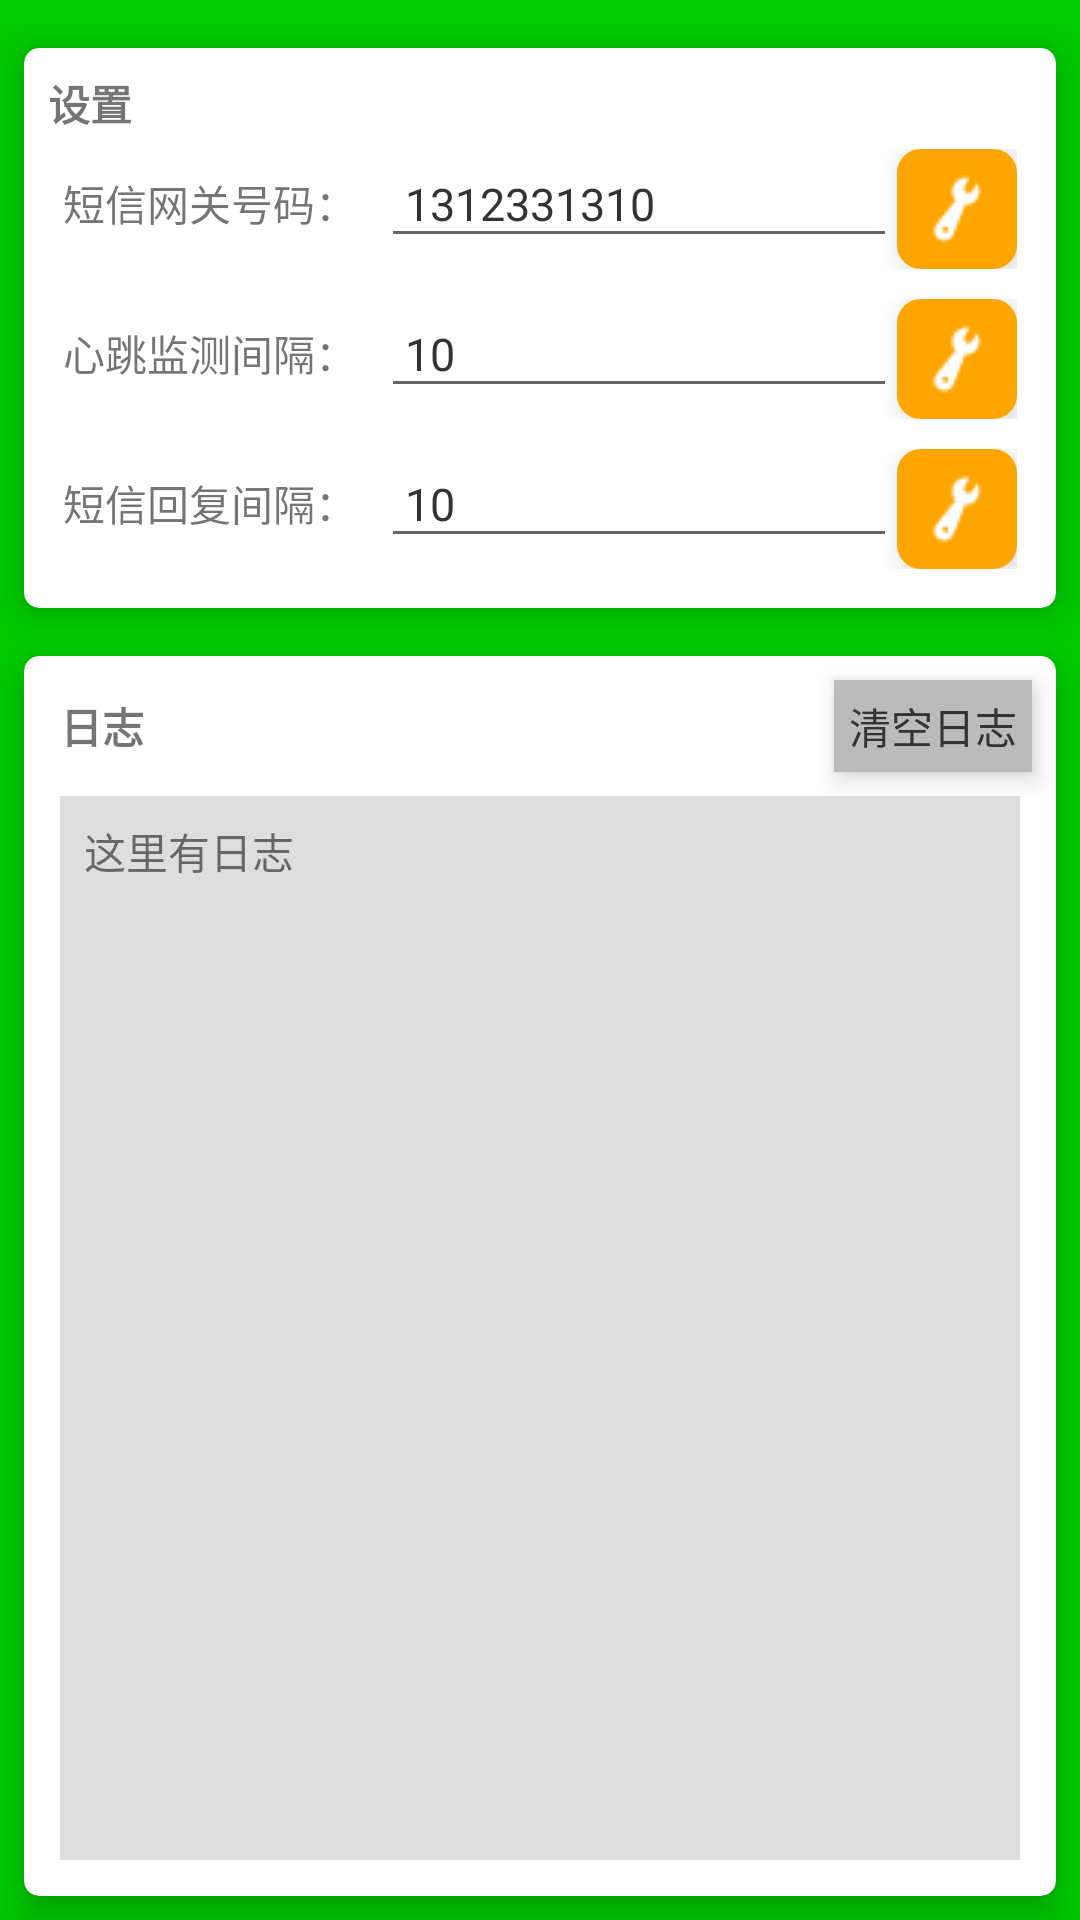

Locate icon controls on the screen. Image size 1080px x 1920px, boxes as bbox(x1, y1, x2, y2).
set: bbox(897, 149, 1017, 269), bbox(897, 299, 1017, 419), bbox(897, 449, 1017, 569)
